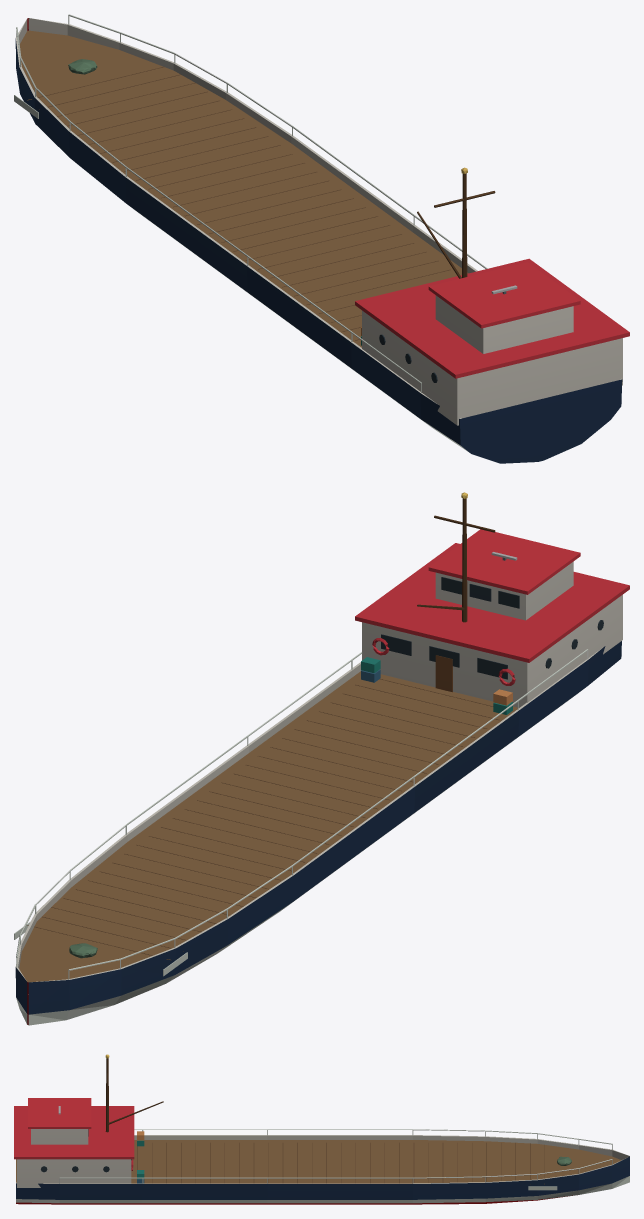
Rendered from trawler.fbx.
3 views of the same model, one above another, from view 1: azimuth 30°, elevation 25°; view 2: azimuth 150°, elevation 25°; view 3: azimuth 270°, elevation 25° (orthographic). The views are drawn at different scales.
Parts seen in each view (by area): view 1: trawler_0; view 2: trawler_0; view 3: trawler_0.
Part boxes in pixels (x1,y1,x2,y2): trawler_0: (14,14,629,463); trawler_0: (14,492,629,1025); trawler_0: (14,1054,629,1204).
Size of the model in its own units: 11.6 by 15.12 by 59.3.
